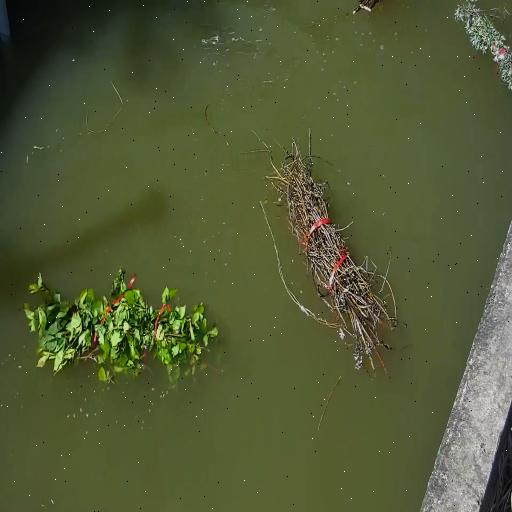twig: (259, 129, 397, 372), (25, 267, 218, 381), (454, 0, 512, 90), (352, 0, 380, 14)
